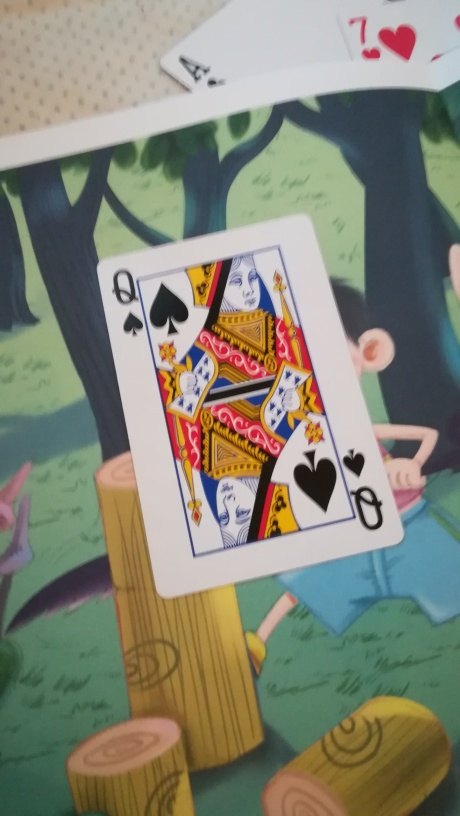ht q: (94, 213, 409, 598)
